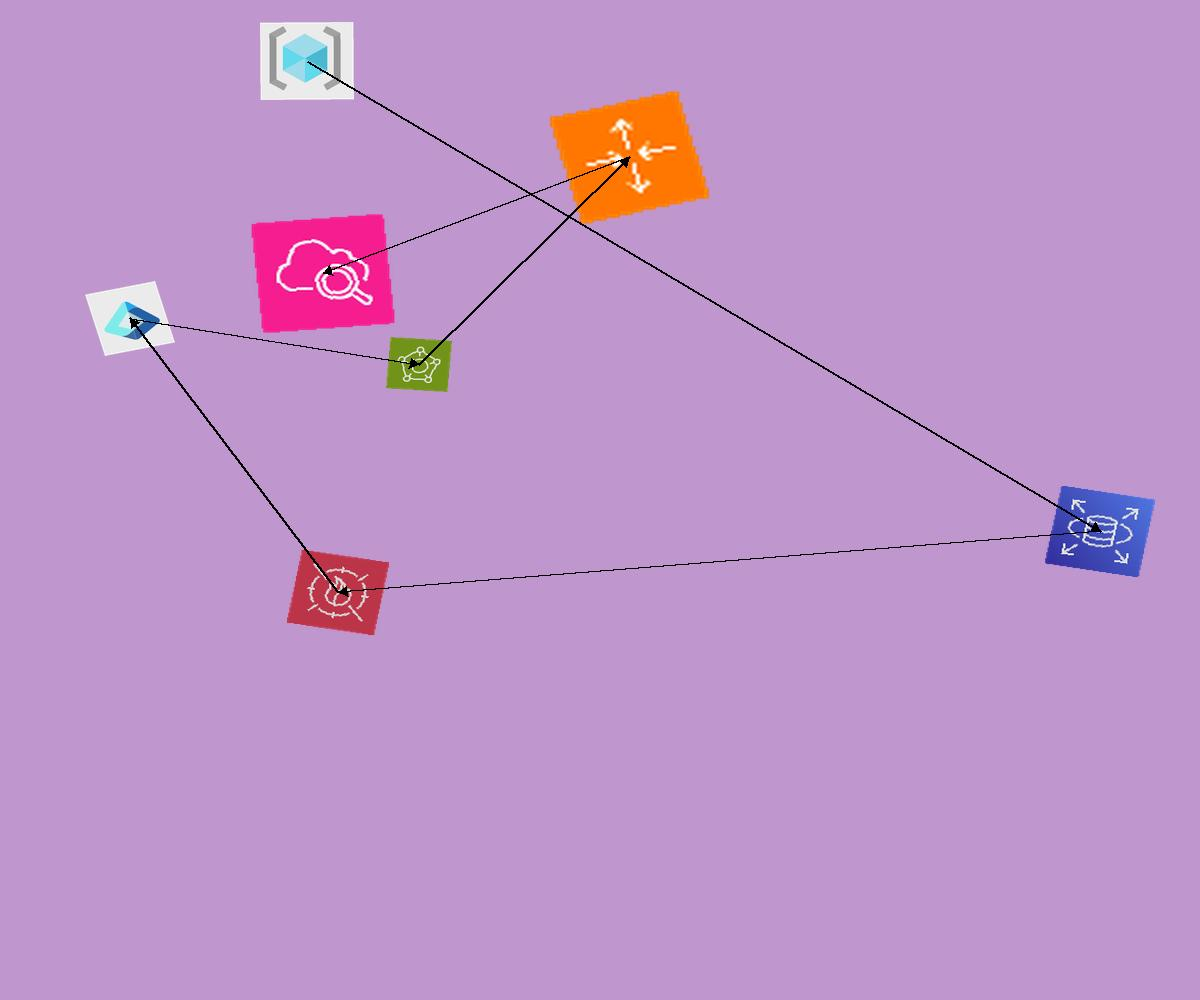AWS-Backup: (386, 337, 452, 392)
AWS-CloudWatch: (250, 213, 396, 334)
AWS-RDS: (1044, 485, 1156, 578)
AWS-Scaling-group: (547, 89, 712, 226)
AWS-WAF: (286, 549, 390, 636)
Azure_microsoft_entra: (85, 281, 175, 356)
Azure_resource_group: (260, 22, 354, 100)
